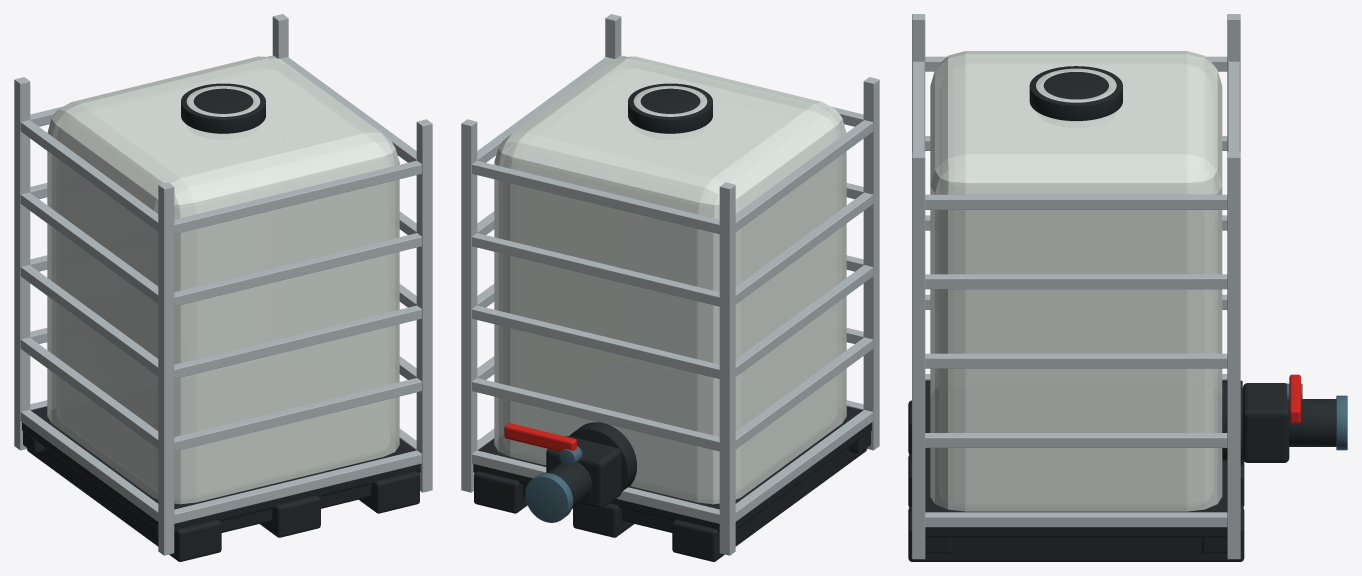
Rendered from tote_finishing_open_ibc.glb.
3 views of the same model, side by side, from view 1: azimuth 30°, elevation 25°; view 2: azimuth 150°, elevation 25°; view 3: azimuth 270°, elevation 25° (orthographic). The views are drawn at different scales.
Parts seen in each view (by area): view 1: IBC_tank, IBC_cage_post_-0.56_-0.54, IBC_cage_post_0.56_-0.54, IBC_cage_post_-0.56_0.54, IBC_pallet_deck, IBC_cage_x_0.78_-0.54, IBC_cage_x_1.08_-0.54, IBC_cage_x_0.18_-0.54, IBC_cage_x_0.48_-0.54, IBC_cage_x_1.38_-0.54, IBC_pallet_runner_-0.43, IBC_fill_cap (+11 smaller); view 2: IBC_tank, IBC_cage_post_-0.56_0.54, IBC_cage_post_0.56_0.54, IBC_cage_post_-0.56_-0.54, IBC_cage_x_0.78_0.54, IBC_cage_x_1.08_0.54, IBC_cage_x_0.48_0.54, IBC_cage_x_1.38_0.54, IBC_pallet_deck, IBC_pallet_runner_-0.43, IBC_fill_cap, IBC_cage_y_1.08_-0.56 (+16 smaller); view 3: IBC_tank, IBC_pallet_runner_0.43, IBC_cage_post_0.56_0.54, IBC_cage_post_0.56_-0.54, IBC_pallet_deck, IBC_cage_y_0.18_0.56, IBC_cage_y_0.78_0.56, IBC_cage_y_1.08_0.56, IBC_cage_y_1.38_0.56, IBC_cage_y_0.48_0.56, IBC_fill_cap, IBC_valve_body (+9 smaller).
Boxes of the visible parts, bbox=[...] form: IBC_tank: bbox=[47, 56, 399, 504]; IBC_cage_post_-0.56_-0.54: bbox=[158, 182, 174, 555]; IBC_cage_post_0.56_-0.54: bbox=[416, 119, 432, 492]; IBC_cage_post_-0.56_0.54: bbox=[14, 77, 30, 450]; IBC_pallet_deck: bbox=[22, 406, 420, 532]; IBC_cage_x_0.78_-0.54: bbox=[174, 305, 421, 378]; IBC_cage_x_1.08_-0.54: bbox=[174, 233, 421, 306]; IBC_cage_x_0.18_-0.54: bbox=[174, 450, 421, 523]; IBC_cage_x_0.48_-0.54: bbox=[174, 378, 421, 451]; IBC_cage_x_1.38_-0.54: bbox=[174, 160, 421, 233]; IBC_pallet_runner_-0.43: bbox=[27, 447, 221, 561]; IBC_fill_cap: bbox=[181, 83, 265, 133]; IBC_tank: bbox=[494, 56, 846, 504]; IBC_cage_post_-0.56_0.54: bbox=[719, 182, 735, 555]; IBC_cage_post_0.56_0.54: bbox=[461, 119, 477, 492]; IBC_cage_post_-0.56_-0.54: bbox=[863, 77, 879, 450]; IBC_cage_x_0.78_0.54: bbox=[472, 305, 719, 378]; IBC_cage_x_1.08_0.54: bbox=[472, 233, 719, 306]; IBC_cage_x_0.48_0.54: bbox=[472, 378, 719, 451]; IBC_cage_x_1.38_0.54: bbox=[472, 160, 719, 233]; IBC_pallet_deck: bbox=[473, 406, 871, 532]; IBC_pallet_runner_-0.43: bbox=[672, 447, 866, 561]; IBC_fill_cap: bbox=[628, 83, 712, 133]; IBC_cage_y_1.08_-0.56: bbox=[735, 192, 873, 304]; IBC_tank: bbox=[930, 51, 1222, 511]; IBC_pallet_runner_0.43: bbox=[908, 506, 1244, 561]; IBC_cage_post_0.56_0.54: bbox=[1227, 152, 1240, 559]; IBC_cage_post_0.56_-0.54: bbox=[912, 152, 925, 559]; IBC_pallet_deck: bbox=[925, 380, 1227, 537]; IBC_cage_y_0.18_0.56: bbox=[925, 512, 1227, 527]; IBC_cage_y_0.78_0.56: bbox=[925, 353, 1227, 368]; IBC_cage_y_1.08_0.56: bbox=[925, 274, 1227, 289]; IBC_cage_y_1.38_0.56: bbox=[925, 194, 1227, 209]; IBC_cage_y_0.48_0.56: bbox=[925, 433, 1227, 447]; IBC_fill_cap: bbox=[1029, 66, 1122, 120]; IBC_valve_body: bbox=[1242, 383, 1289, 462].
Bounding box in the file's own units: 1.17 × 1.56 × 1.5.
